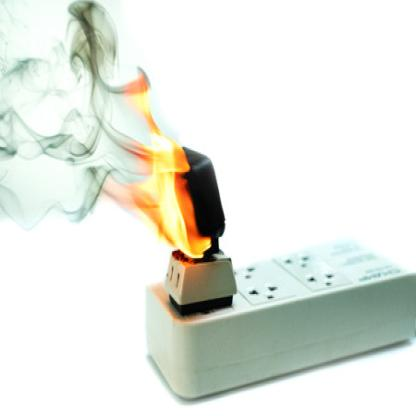fire: (136, 84, 216, 270)
smoke: (0, 4, 121, 224)
